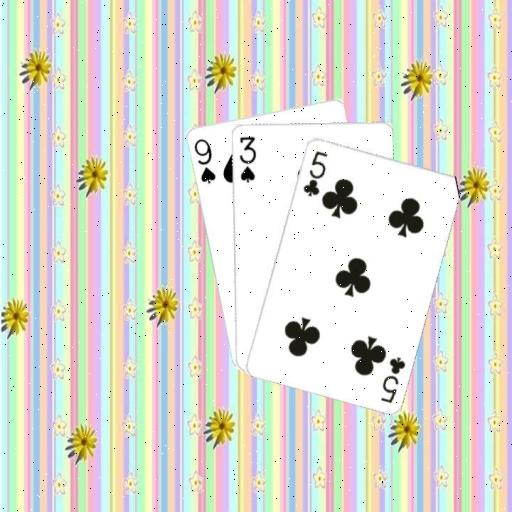3S: (235, 133, 257, 183)
5C: (378, 353, 407, 404), (300, 148, 329, 198)
9S: (191, 135, 217, 185)
